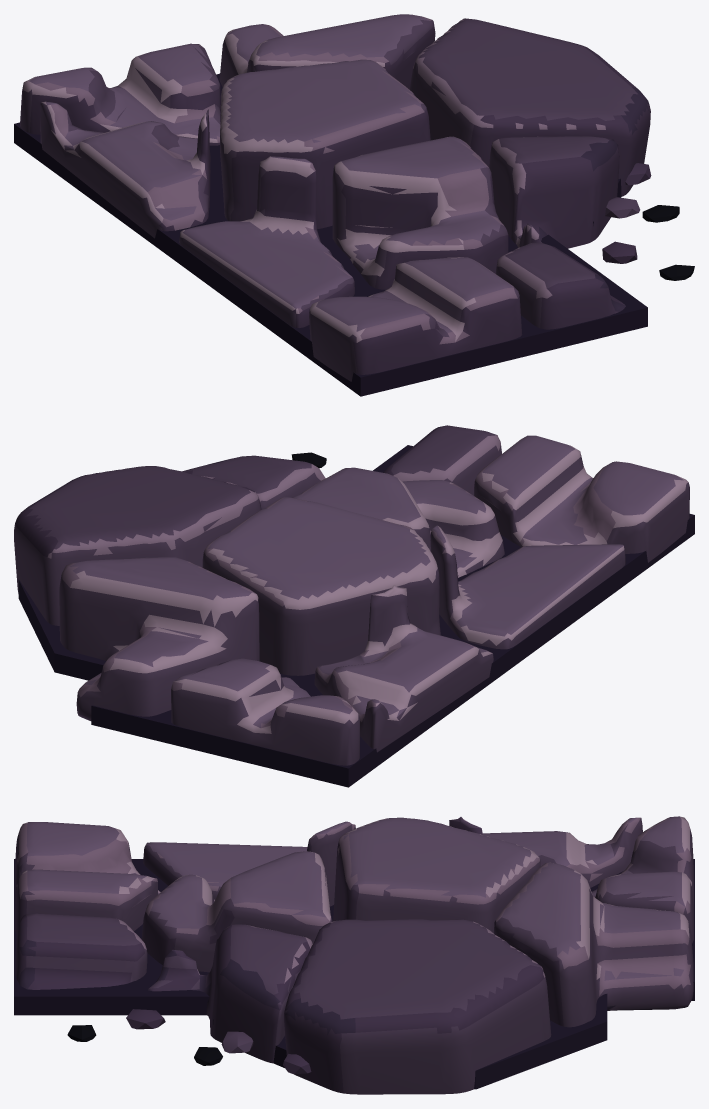
File: purple_pad_r_wreck.glb
3 renders of one model, top to bottom at view 1: azimuth 30°, elevation 25°; view 2: azimuth 150°, elevation 25°; view 3: azimuth 270°, elevation 25°, orthographic.
Visible parts, largest first — view 1: lump5, lump4, lump6, lump8, bed, lump1, lump0, lump7, lump2, lump3, lump9, chip2 (+1 smaller); view 2: lump4, lump3, lump5, lump8, bed, lump0, lump2, lump1, lump6, lump9, lump7; view 3: lump5, lump3, lump4, lump6, lump8, lump7, bed, lump9, lump2, lump1, lump0, chip2 (+3 smaller).
Part boxes in pixels (<box>): lump5: <box>409,18,650,196</box>; lump4: <box>220,59,430,228</box>; lump6: <box>332,136,508,289</box>; lump8: <box>309,257,522,381</box>; bed: <box>14,73,647,396</box>; lump1: <box>179,156,354,327</box>; lump0: <box>40,101,210,238</box>; lump7: <box>489,136,619,248</box>; lump2: <box>20,43,220,145</box>; lump3: <box>219,14,435,89</box>; lump9: <box>496,242,625,329</box>; chip2: <box>602,241,637,263</box>; lump4: <box>202,497,440,675</box>; lump3: <box>59,557,259,720</box>; lump5: <box>14,466,261,625</box>; lump8: <box>474,435,689,562</box>; bed: <box>18,445,694,787</box>; lump0: <box>314,585,493,752</box>; lump2: <box>171,658,359,765</box>; lump1: <box>430,525,625,649</box>; lump6: <box>293,467,504,577</box>; lump9: <box>383,425,501,495</box>; lump7: <box>182,455,325,509</box>; lump5: <box>284,919,551,1094</box>; lump3: <box>494,862,693,1027</box>; lump4: <box>333,817,540,933</box>; lump6: <box>141,851,332,972</box>; lump8: <box>15,822,160,934</box>; lump7: <box>148,924,312,1063</box>; bed: <box>14,859,694,1089</box>; lump9: <box>15,913,147,989</box>; lump2: <box>591,816,693,943</box>; lump1: <box>143,821,355,906</box>; lump0: <box>449,817,642,887</box>; chip2: <box>126,1009,165,1029</box>.
Size of the model in its own units: 21.41 by 4.87 by 28.
